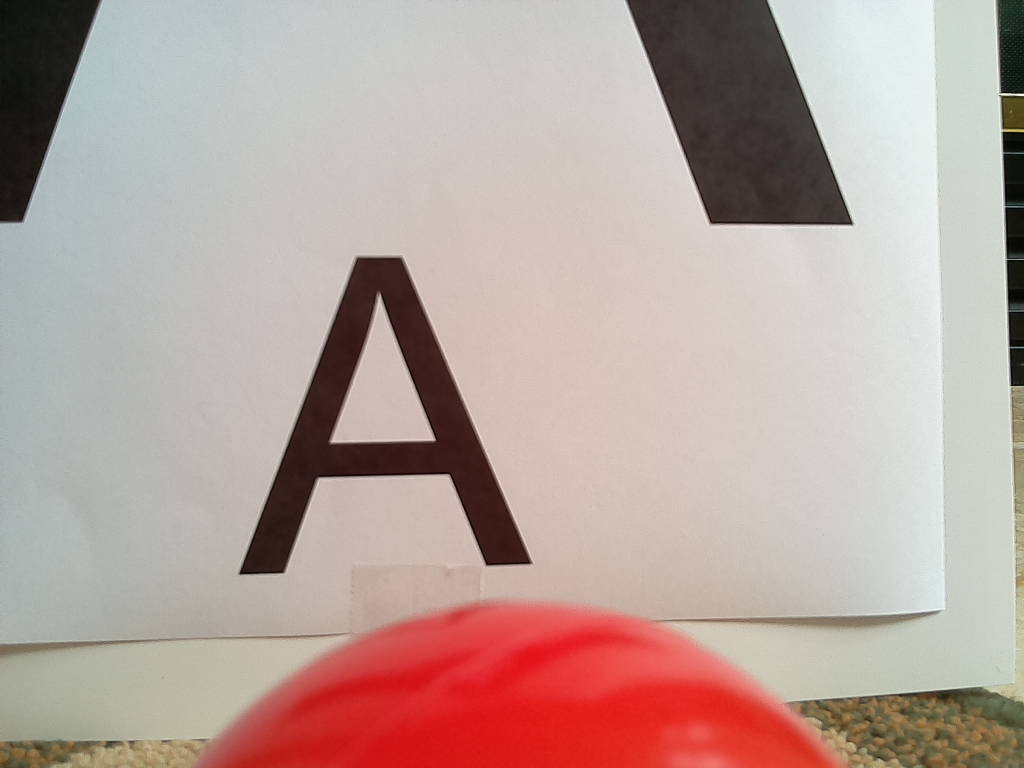letter: (239, 257, 537, 575)
